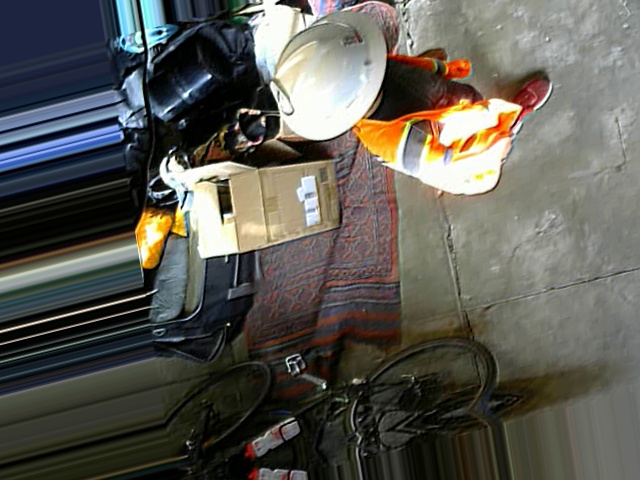one: (269, 77, 294, 119)
